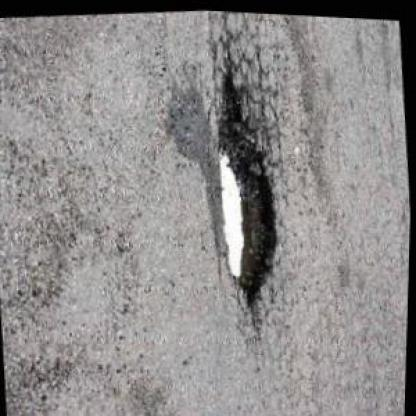pothole: (202, 61, 294, 304)
